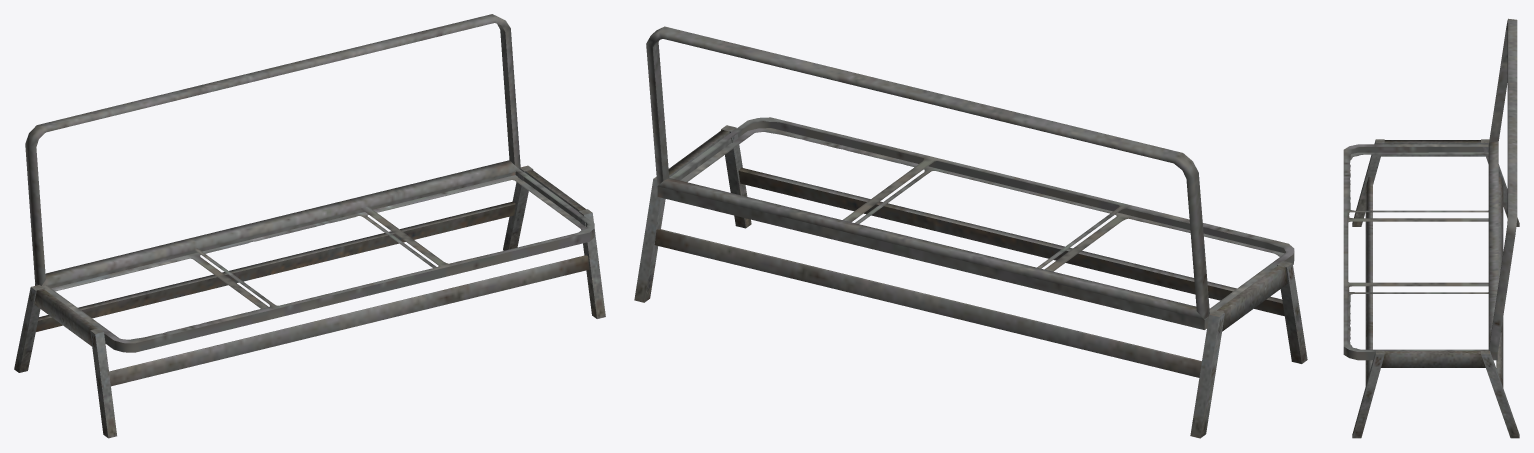
Rendered from 002_OfficeSofa.fbx.
The picture shows the model from 3 angles, left to right: view 1: azimuth 30°, elevation 25°; view 2: azimuth 150°, elevation 25°; view 3: azimuth 270°, elevation 25°; orthographic projection. The views are drawn at different scales.
Parts seen in each view (by area): view 1: LOD_1_Group_4_Sub_1__sm30_002_OfficeSofa01A_A_Mat, LOD_1_Group_6_Sub_1__sm30_002_OfficeSofa01A_A_Mat, LOD_1_Group_3_Sub_1__sm30_002_OfficeSofa01A_A_Mat, LOD_1_Group_5_Sub_1__sm30_002_OfficeSofa01A_A_Mat; view 2: LOD_1_Group_3_Sub_1__sm30_002_OfficeSofa01A_A_Mat, LOD_1_Group_6_Sub_1__sm30_002_OfficeSofa01A_A_Mat, LOD_1_Group_4_Sub_1__sm30_002_OfficeSofa01A_A_Mat, LOD_1_Group_5_Sub_1__sm30_002_OfficeSofa01A_A_Mat; view 3: LOD_1_Group_4_Sub_1__sm30_002_OfficeSofa01A_A_Mat, LOD_1_Group_3_Sub_1__sm30_002_OfficeSofa01A_A_Mat, LOD_1_Group_5_Sub_1__sm30_002_OfficeSofa01A_A_Mat, LOD_1_Group_6_Sub_1__sm30_002_OfficeSofa01A_A_Mat.
Part boxes in pixels (left/top/right/bottom): LOD_1_Group_4_Sub_1__sm30_002_OfficeSofa01A_A_Mat: left=25, top=14, right=520, bottom=286; LOD_1_Group_6_Sub_1__sm30_002_OfficeSofa01A_A_Mat: left=36, top=201, right=589, bottom=386; LOD_1_Group_3_Sub_1__sm30_002_OfficeSofa01A_A_Mat: left=35, top=169, right=594, bottom=352; LOD_1_Group_5_Sub_1__sm30_002_OfficeSofa01A_A_Mat: left=14, top=165, right=605, bottom=438; LOD_1_Group_3_Sub_1__sm30_002_OfficeSofa01A_A_Mat: left=657, top=117, right=1294, bottom=329; LOD_1_Group_6_Sub_1__sm30_002_OfficeSofa01A_A_Mat: left=654, top=167, right=1284, bottom=377; LOD_1_Group_4_Sub_1__sm30_002_OfficeSofa01A_A_Mat: left=646, top=26, right=1209, bottom=319; LOD_1_Group_5_Sub_1__sm30_002_OfficeSofa01A_A_Mat: left=634, top=125, right=1307, bottom=438; LOD_1_Group_4_Sub_1__sm30_002_OfficeSofa01A_A_Mat: left=1488, top=18, right=1517, bottom=352; LOD_1_Group_3_Sub_1__sm30_002_OfficeSofa01A_A_Mat: left=1343, top=144, right=1497, bottom=360; LOD_1_Group_5_Sub_1__sm30_002_OfficeSofa01A_A_Mat: left=1352, top=139, right=1519, bottom=438; LOD_1_Group_6_Sub_1__sm30_002_OfficeSofa01A_A_Mat: left=1365, top=177, right=1503, bottom=387.
Size of the model in its own units: 2.13 by 1.01 by 0.7611.
